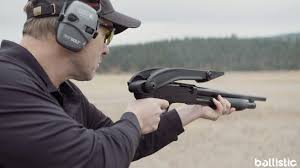Gun: (129, 68, 254, 110)
